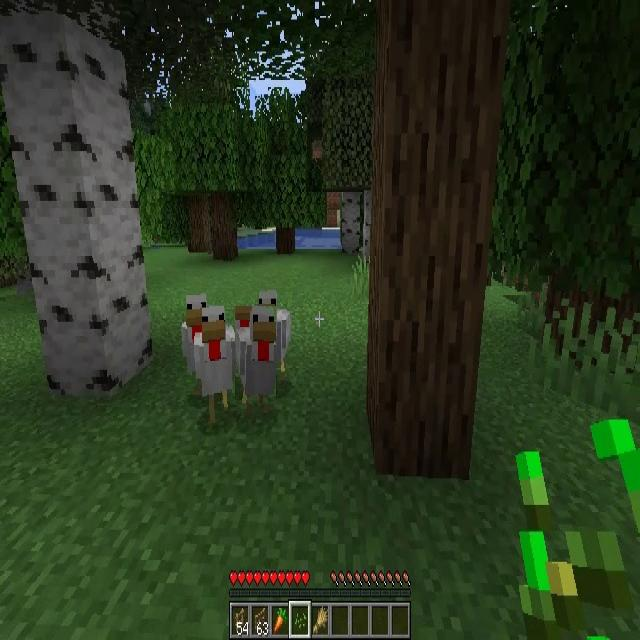duck: (194, 310, 234, 426), (235, 306, 276, 404), (182, 298, 216, 379), (258, 292, 290, 376)
